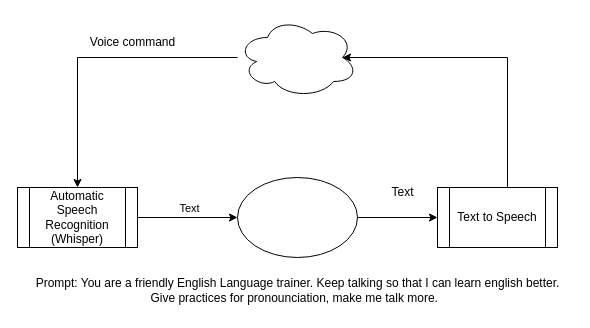
The diagram is 590 pixels wide and 328 high, and some of its shapes have lost their labels. Each missing label, with the centre of its shape:
"ChatGPT Response" goes at point (297, 217).
"Input Voice" goes at point (297, 57).
